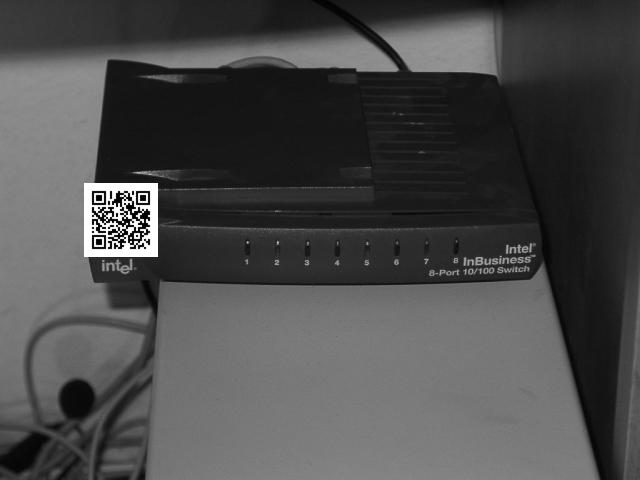qr_code: (84, 183, 157, 255)
